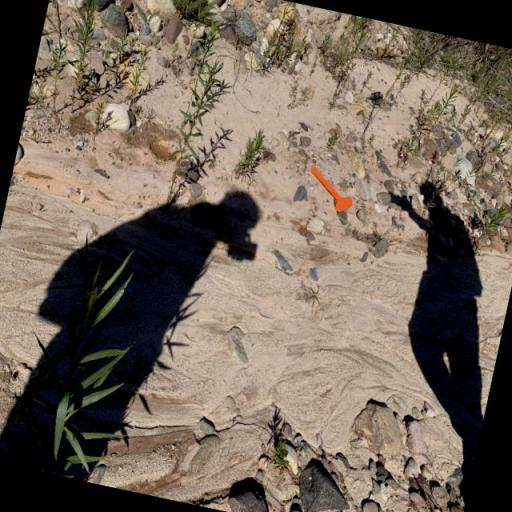mallet: (301, 162, 359, 220)
